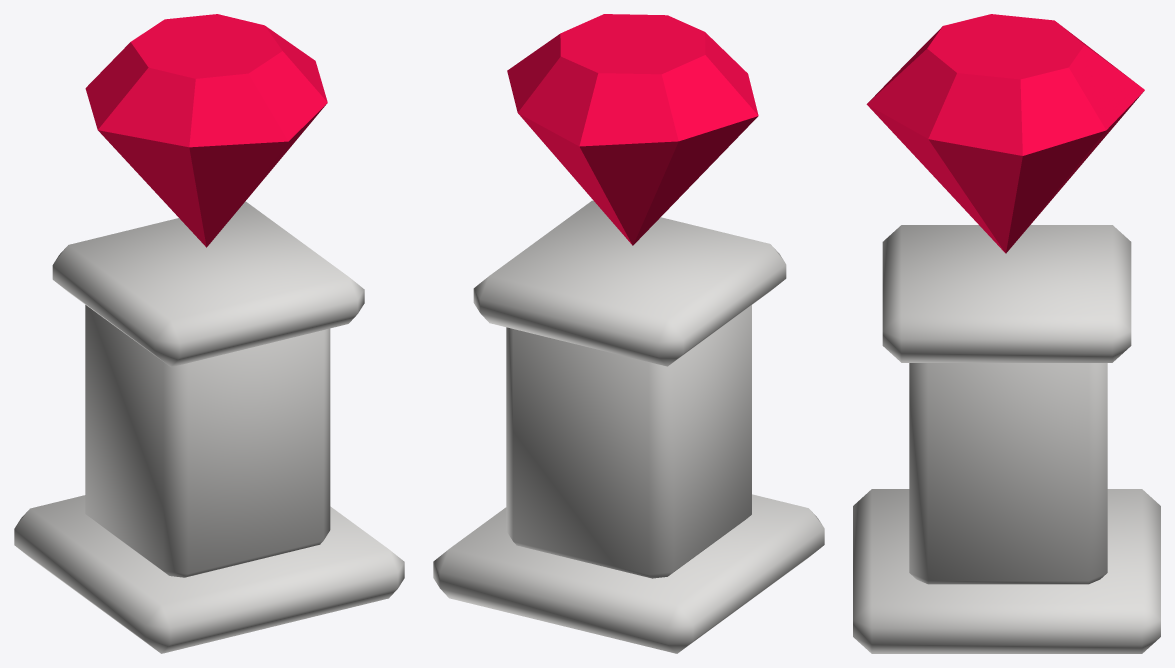
File: tower.fbx
The picture shows the model from 3 angles, left to right: view 1: azimuth 30°, elevation 25°; view 2: azimuth 150°, elevation 25°; view 3: azimuth 270°, elevation 25°; orthographic projection. The views are drawn at different scales.
Visible parts, largest first — view 1: Cube, Cube.002; view 2: Cube, Cube.002; view 3: Cube, Cube.002.
Boxes of the visible parts, bbox=[...] form: Cube: bbox=[14, 201, 404, 653]; Cube.002: bbox=[85, 14, 327, 247]; Cube: bbox=[433, 200, 824, 653]; Cube.002: bbox=[507, 14, 758, 245]; Cube: bbox=[853, 225, 1160, 653]; Cube.002: bbox=[866, 14, 1144, 253].
Bounding box in the file's own units: 310 × 610 × 310.
